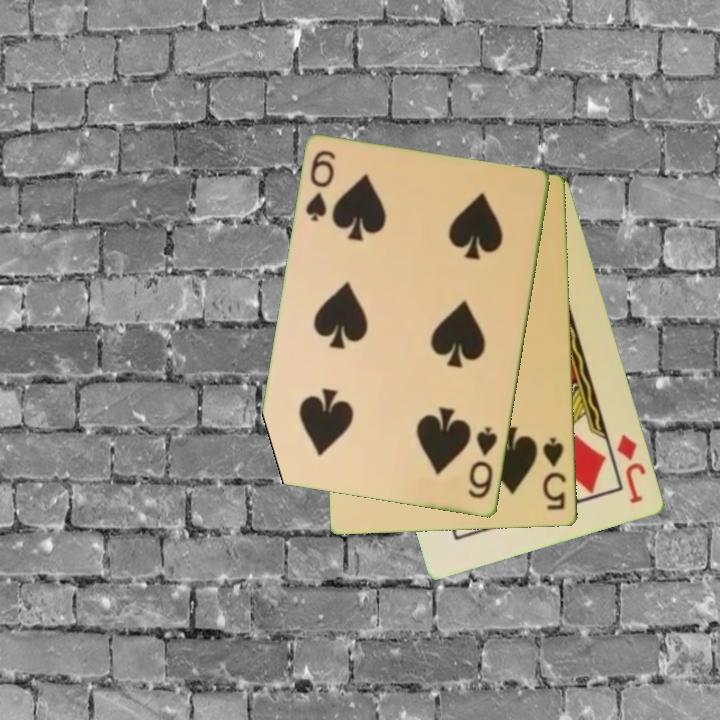5s: (539, 434, 569, 513)
6s: (302, 147, 339, 225), (465, 424, 501, 502)
Jd: (614, 431, 650, 507)
